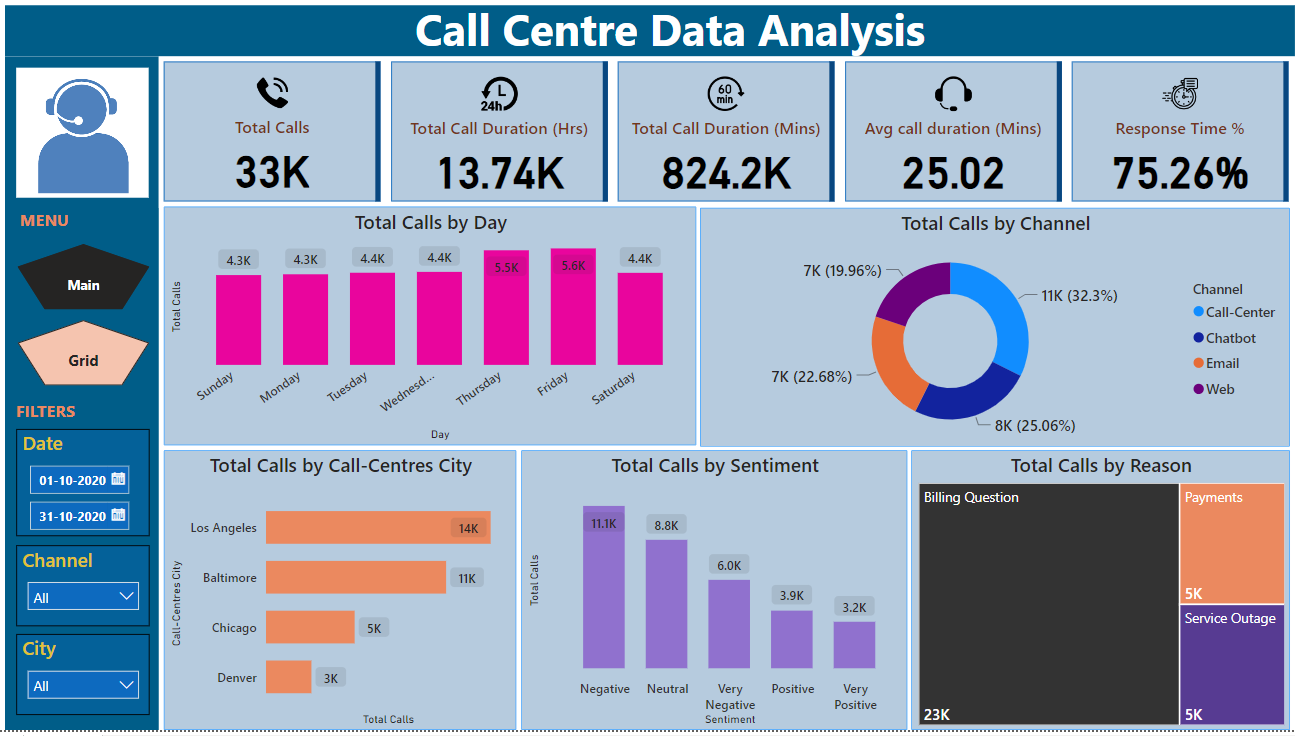

What the dashboard file says about the page in this screenshot:
{"tool":"powerbi","page":{"name":"Main","canvas":[1280,720],"ordinal":0},"visuals":[{"type":"shape","box":[9.4,10.8,1261.4,50],"z":0},{"type":"shape","box":[9.8,61.1,150.4,658.9],"z":1000},{"type":"cardVisual","fields":{"Data":["Call Center_Call Center.Total Calls","Call Center_Call Center.Total Call Duration (hrs)","Call Center_Call Center.Total Call Duration(mins)","Call Center_Call Center.Average call duration (MINS)","Call Center_Call Center.Response Time %"]},"box":[160.1,61.1,1111.2,147.9],"z":2000},{"type":"textbox","box":[350.8,0,618.5,90.5],"z":3000},{"type":"columnChart","fields":{"Category":["Date Table.Day"],"Y":["Call Center_Call Center.Total Calls"]},"box":[165,207.8,520.7,233.5],"z":4000},{"type":"treemap","fields":{"Group":["Call Center_Call Center.Reason"],"Values":["Call Center_Call Center.Total Calls"]},"box":[896,446.2,370.4,273.8],"z":5000},{"type":"donutChart","fields":{"Category":["Call Center_Call Center.Channel"],"Y":["Call Center_Call Center.Total Calls"]},"box":[689.4,209,577,233.5],"z":6000},{"type":"columnChart","fields":{"Category":["Call Center_Call Center.Sentiment"],"Y":["Call Center_Call Center.Total Calls"]},"box":[514.6,446.2,377.7,273.8],"z":7000},{"type":"barChart","fields":{"Category":["Call Center_Call Center.Call-Centres City"],"Y":["Call Center_Call Center.Total Calls"]},"box":[165,446.2,344.7,273.8],"z":8000},{"type":"slicer","title":"Date","fields":{"Values":["Date Table.Date"]},"box":[20.8,425.4,130.8,105.1],"z":9000},{"type":"slicer","title":"City","fields":{"Values":["Call Center_Call Center.City"]},"box":[20.8,625.9,130.8,79.5],"z":10000},{"type":"image","box":[15.9,67.2,139.4,136.9],"z":11000},{"type":"slicer","title":"Channel","fields":{"Values":["Call Center_Call Center.Channel"]},"box":[20.8,539.1,130.8,79.5],"z":12000},{"type":"pageNavigator","box":[22,244.5,129.6,138.1],"z":13000},{"type":"textbox","box":[0,204.1,96.6,40.3],"z":14000},{"type":"textbox","box":[1.2,391.2,96.6,34.2],"z":15000}]}

Visuals, with their boxes in screenshot pixels (x1, y1, x2, y2), scaled from the page's 1280x720 canvas onto the 1295x736 screenshot:
shape: (10,11,1286,62)
shape: (10,62,162,735)
cardVisual - Call Center_Call Center.Total Calls x Call Center_Call Center.Total Call Duration (hrs): (162,62,1286,214)
textbox: (355,0,981,93)
columnChart - Date Table.Day x Call Center_Call Center.Total Calls: (167,212,694,451)
treemap - Call Center_Call Center.Reason x Call Center_Call Center.Total Calls: (906,456,1281,735)
donutChart - Call Center_Call Center.Channel x Call Center_Call Center.Total Calls: (697,214,1281,452)
columnChart - Call Center_Call Center.Sentiment x Call Center_Call Center.Total Calls: (521,456,903,735)
barChart - Call Center_Call Center.Call-Centres City x Call Center_Call Center.Total Calls: (167,456,516,735)
"Date" slicer: (21,435,153,542)
"City" slicer: (21,640,153,721)
image: (16,69,157,209)
"Channel" slicer: (21,551,153,632)
pageNavigator: (22,250,153,391)
textbox: (0,209,98,250)
textbox: (1,400,99,435)
